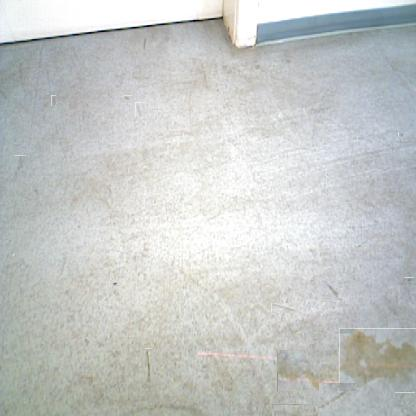liquid: (339, 328, 416, 391), (276, 349, 340, 391), (319, 383, 357, 409), (398, 389, 416, 409)
mark: (120, 401, 206, 415), (272, 404, 318, 416), (322, 280, 344, 302), (276, 299, 294, 318), (146, 348, 154, 383), (14, 155, 26, 176), (135, 102, 142, 117), (142, 36, 148, 52), (111, 279, 119, 288), (406, 276, 413, 284), (51, 95, 56, 106), (125, 94, 132, 101), (399, 131, 405, 138)
